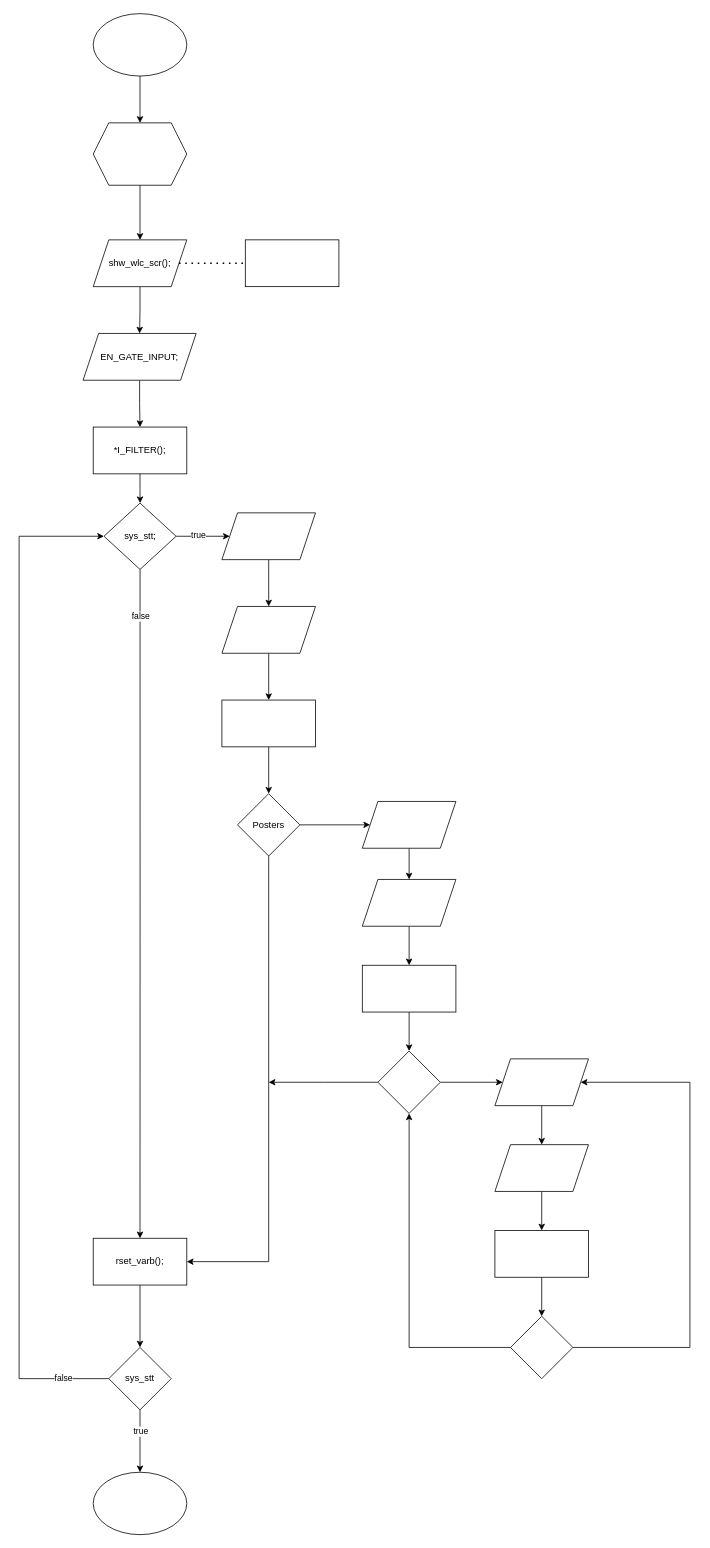
The diagram is 710 pixels wide and 1548 high, and some of its shapes have lost their labels. The centre of each missing label's shape, as x and y in pixels:
"End" goes at (139,1503).
"Reservation" goes at (408,1081).
"Start" goes at (139,44).
"wlc_msg; cout;" goes at (292,263).
